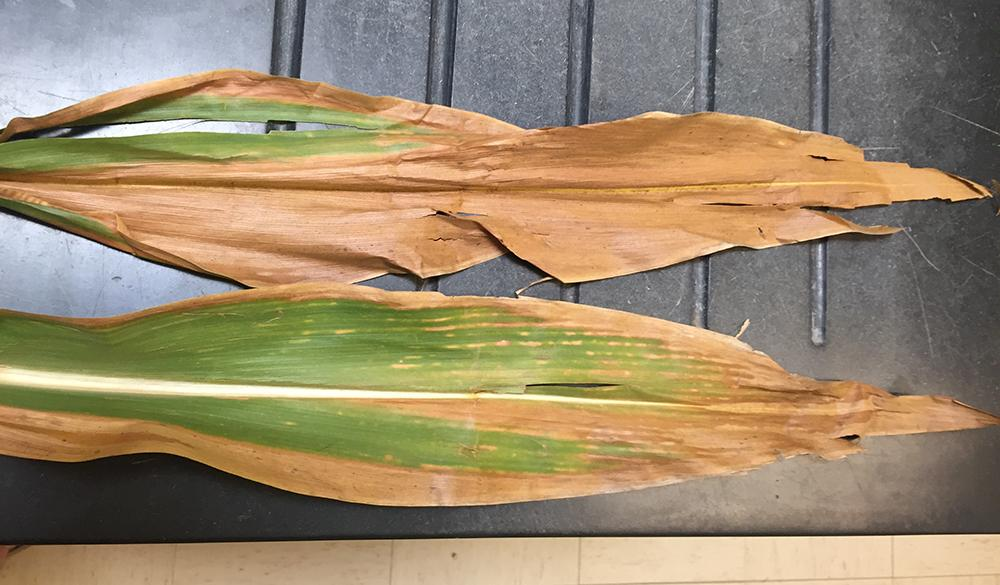Corn leaf blight: (1, 274, 1000, 513), (1, 59, 993, 287)
